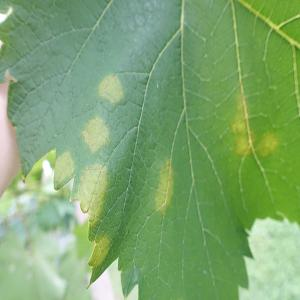Folha: (0, 0, 299, 298)
Fungo: (231, 94, 279, 159), (231, 94, 256, 156), (154, 158, 174, 216), (80, 116, 110, 154), (98, 73, 124, 105), (256, 130, 279, 158), (234, 130, 256, 156)
